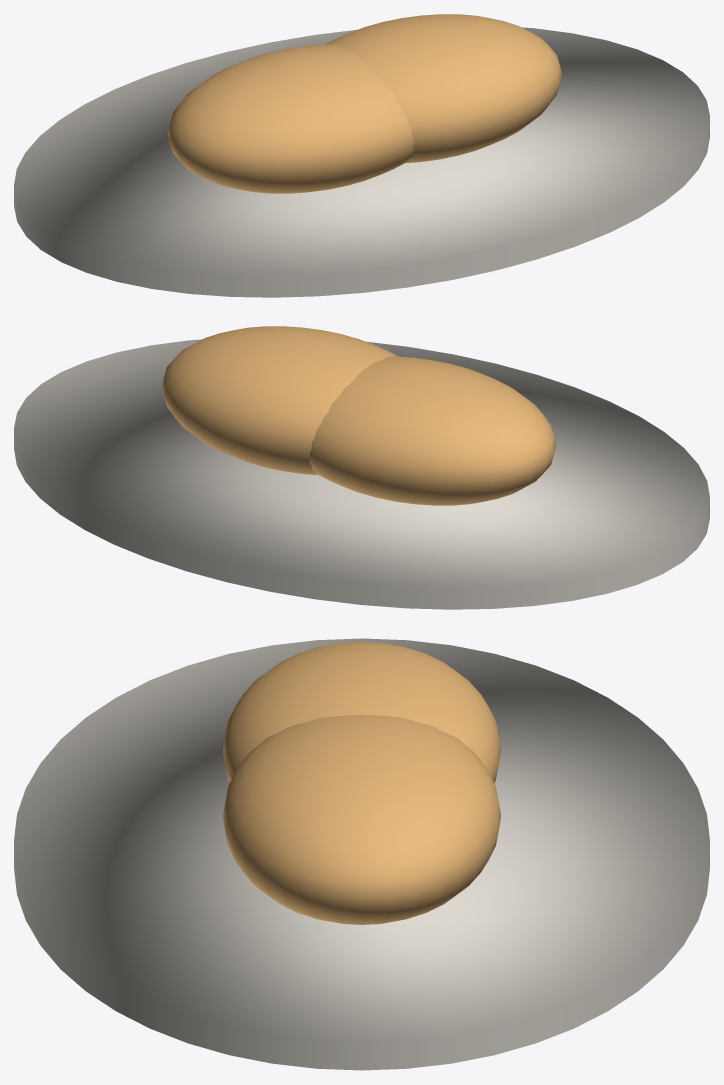
Rendered from hamburger.glb.
The picture shows the model from 3 angles, top to bottom: view 1: azimuth 30°, elevation 25°; view 2: azimuth 150°, elevation 25°; view 3: azimuth 270°, elevation 25°; orthographic projection. The views are drawn at different scales.
Size of the model in its own units: 2.2 by 0.405 by 1.6.
